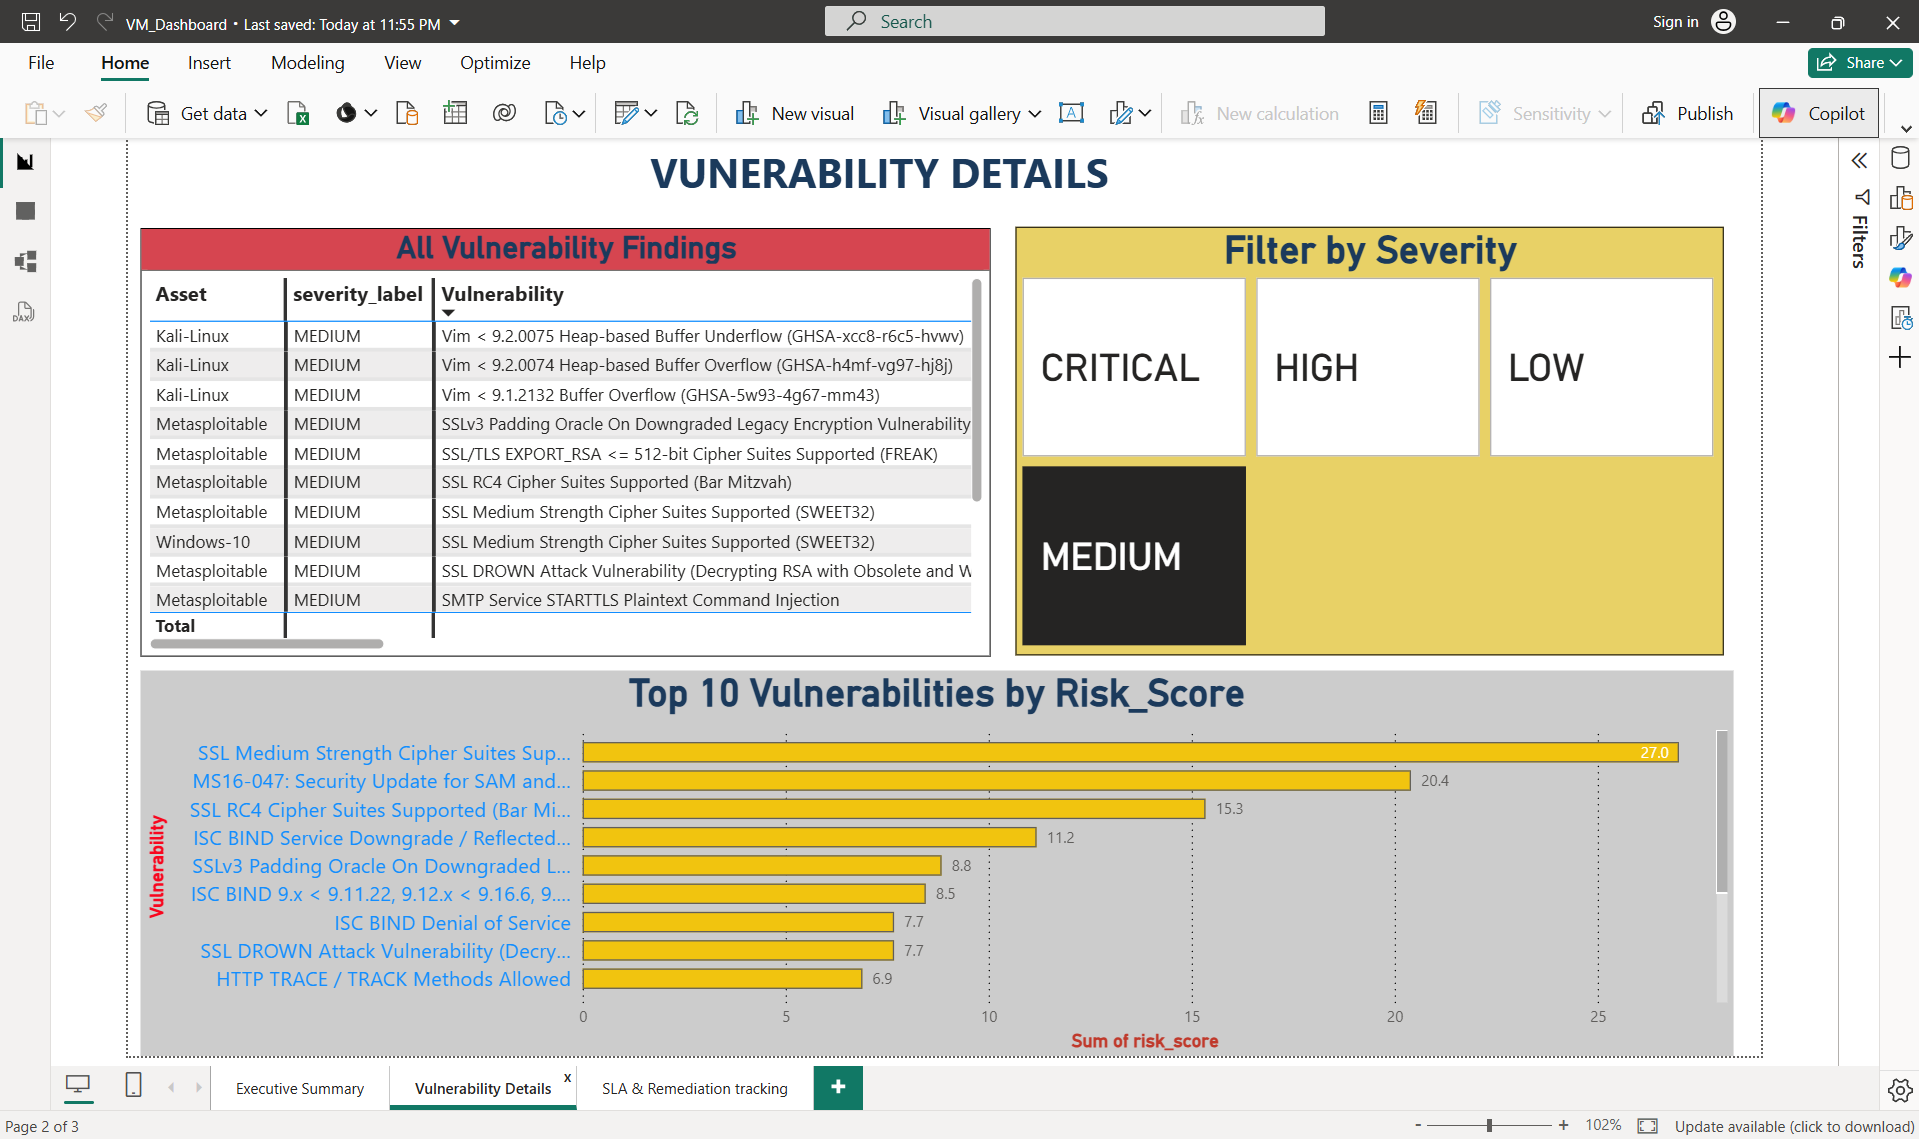

The dashboard page shown, as its layout file describes it:
{"tool":"powerbi","page":{"name":"Vulnerability Details ","canvas":[1280,720],"ordinal":1},"visuals":[{"type":"tableEx","title":"All Vulnerability Findings ","fields":{"Values":["cve_findings.Asset","cve_findings.severity_label","cve_findings.Vulnerability","cve_findings.CVE","Sum(cve_findings.cvss_base)","Sum(cve_findings.risk_score)","cve_findings.priority","cve_findings.remediation_due.Variation.Date Hierarchy.Year","cve_findings.remediation_due.Variation.Date Hierarchy.Quarter","cve_findings.remediation_due.Variation.Date Hierarchy.Month","cve_findings.remediation_due.Variation.Date Hierarchy.Day","cve_findings.tenable_url"]},"box":[10.1,70.7,666.6,336.2],"z":0},{"type":"clusteredBarChart","title":"Top 10 Vulnerabilities by Risk_Score","fields":{"Category":["cve_findings.Vulnerability"],"Y":["Sum(cve_findings.risk_score)"]},"box":[9.6,417.1,1248.8,303.2],"z":1000},{"type":"advancedSlicerVisual","title":"Filter by Severity","fields":{"Values":["cve_findings.severity_label"]},"box":[695.4,69.3,555.5,336.2],"z":2000},{"type":"textbox","box":[193.3,0,792.1,53.4],"z":3000}]}

Visuals, with their boxes on the page's 1280x720 design canvas (x1, y1, x2, y2). These are canvas units, not pixel positions in the 1919x1139 screenshot, which may show the page scaled, cropped or inside an application window:
"All Vulnerability Findings " tableEx: (x1=10, y1=71, x2=677, y2=407)
"Top 10 Vulnerabilities by Risk_Score" clusteredBarChart: (x1=10, y1=417, x2=1258, y2=720)
"Filter by Severity" advancedSlicerVisual: (x1=695, y1=69, x2=1251, y2=406)
textbox: (x1=193, y1=0, x2=985, y2=53)
